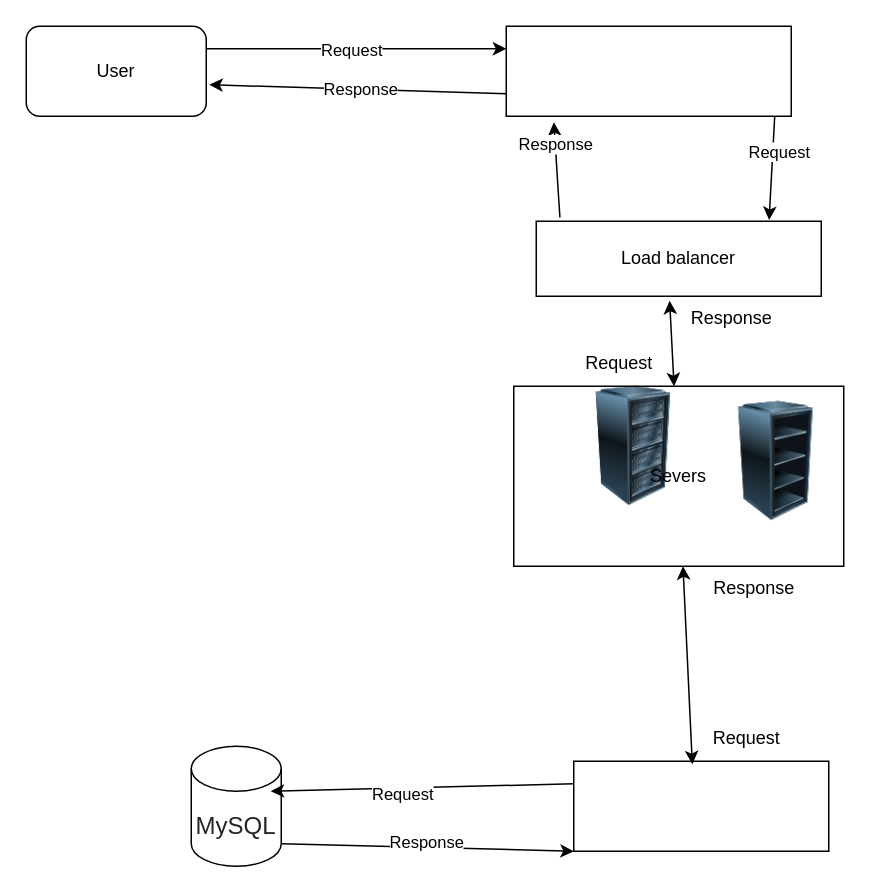
Some shapes in this 870 by 893 pixel diagram are drawn without their labels. Each missing label, with the centre of its shape:
"Code Application" belongs at point (700, 805).
"web browser" belongs at point (648, 70).
